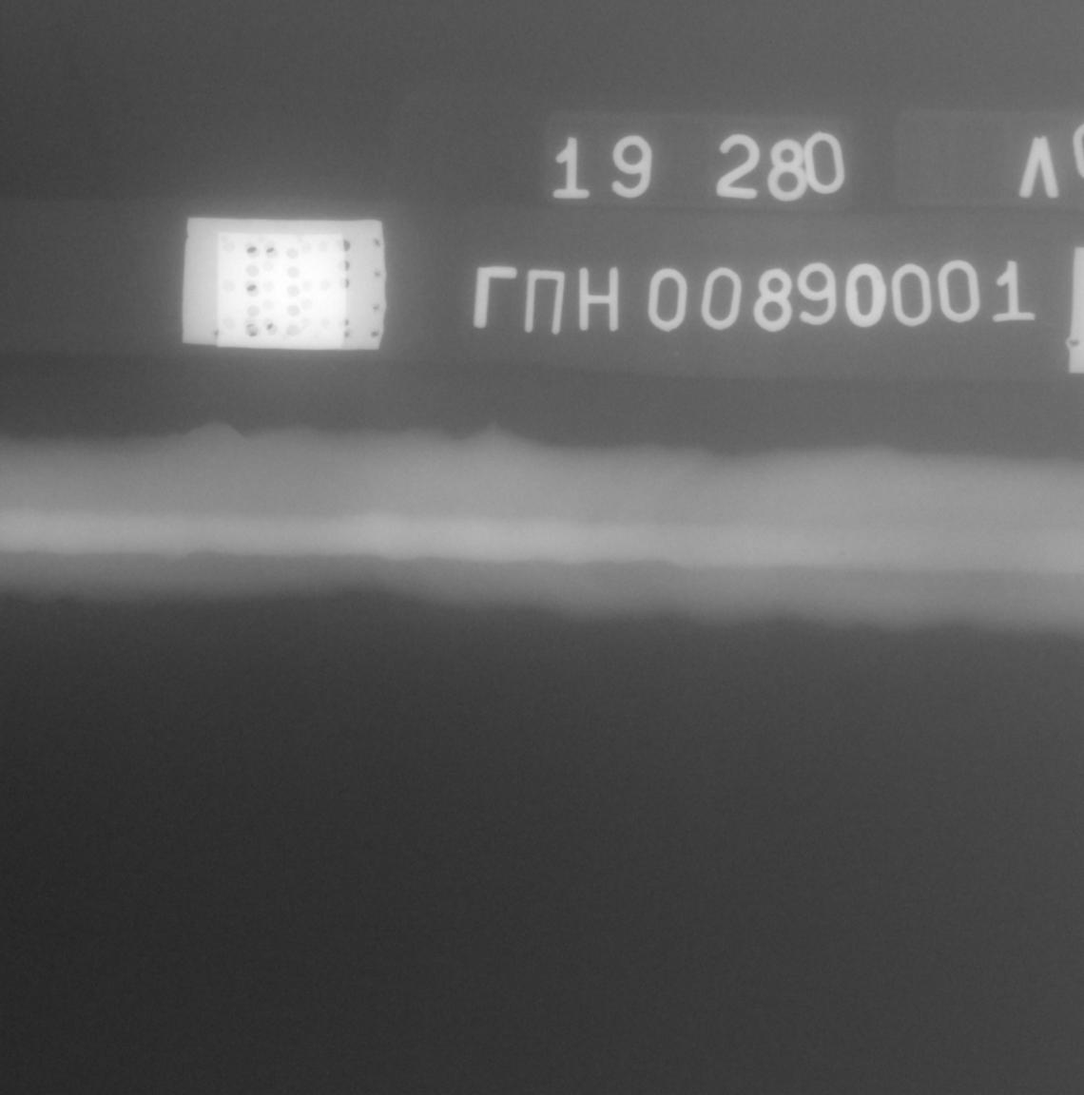Pore/Porosity: (839, 550, 845, 555)
